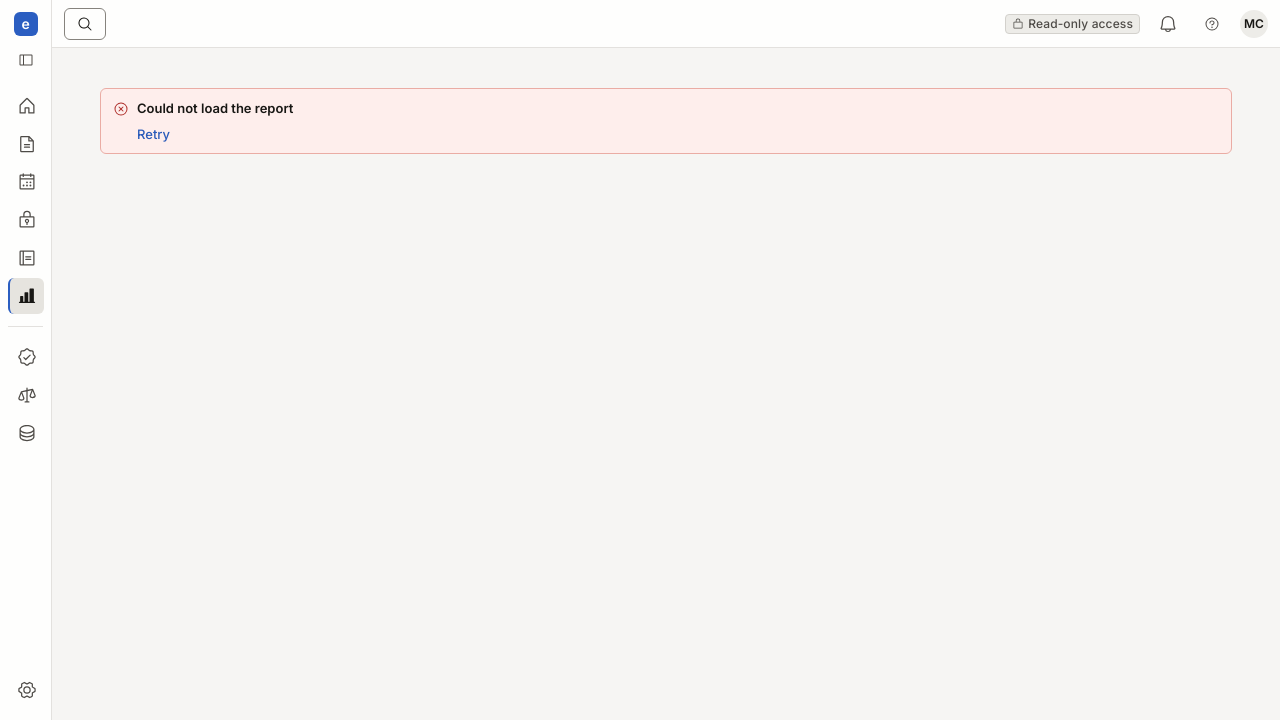
Test: the context of a view: SF-08:report › SF-08:report: the entities cannot be read: no run is asked, the page says so, and Retry reads again
Expected: the heading "Could not load the report" is shown, [137, 100, 293, 116]
Click the button "Retry".
click(154, 134)  # box [137, 125, 170, 143]
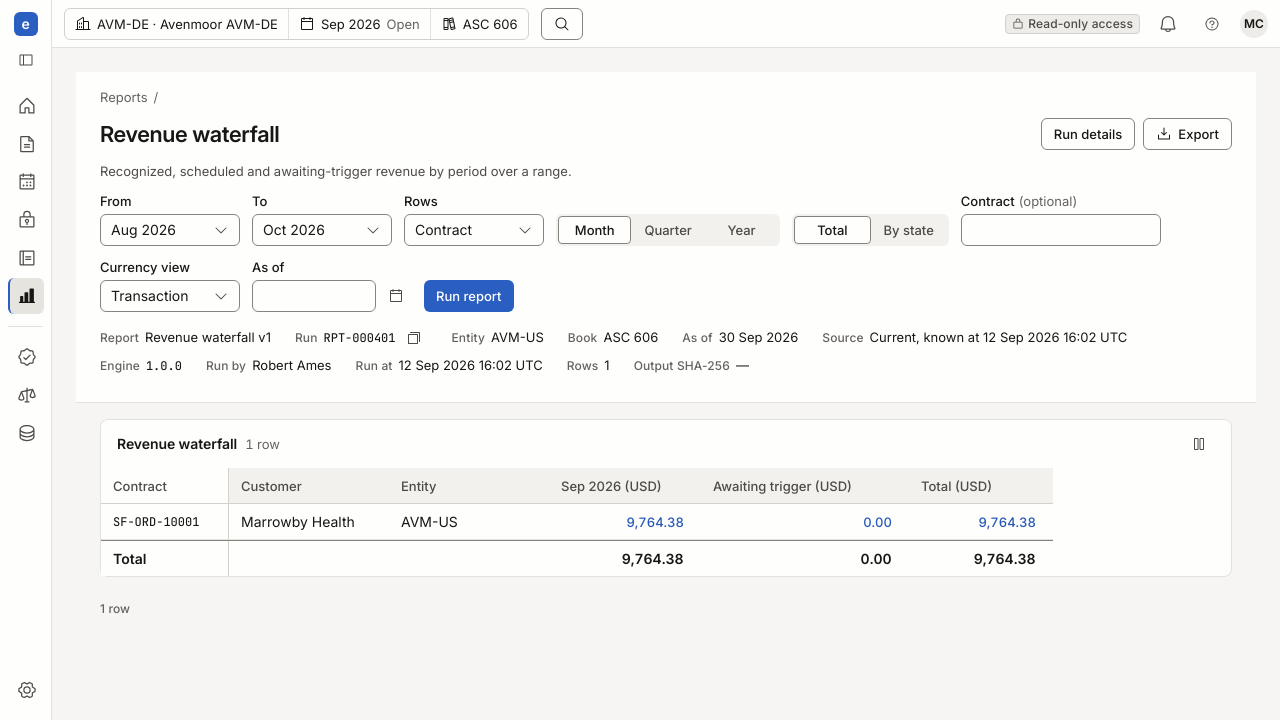
Expected: the row with test id "SF-08-row-sf-ord-10001" is shown, [101, 504, 1053, 540]
